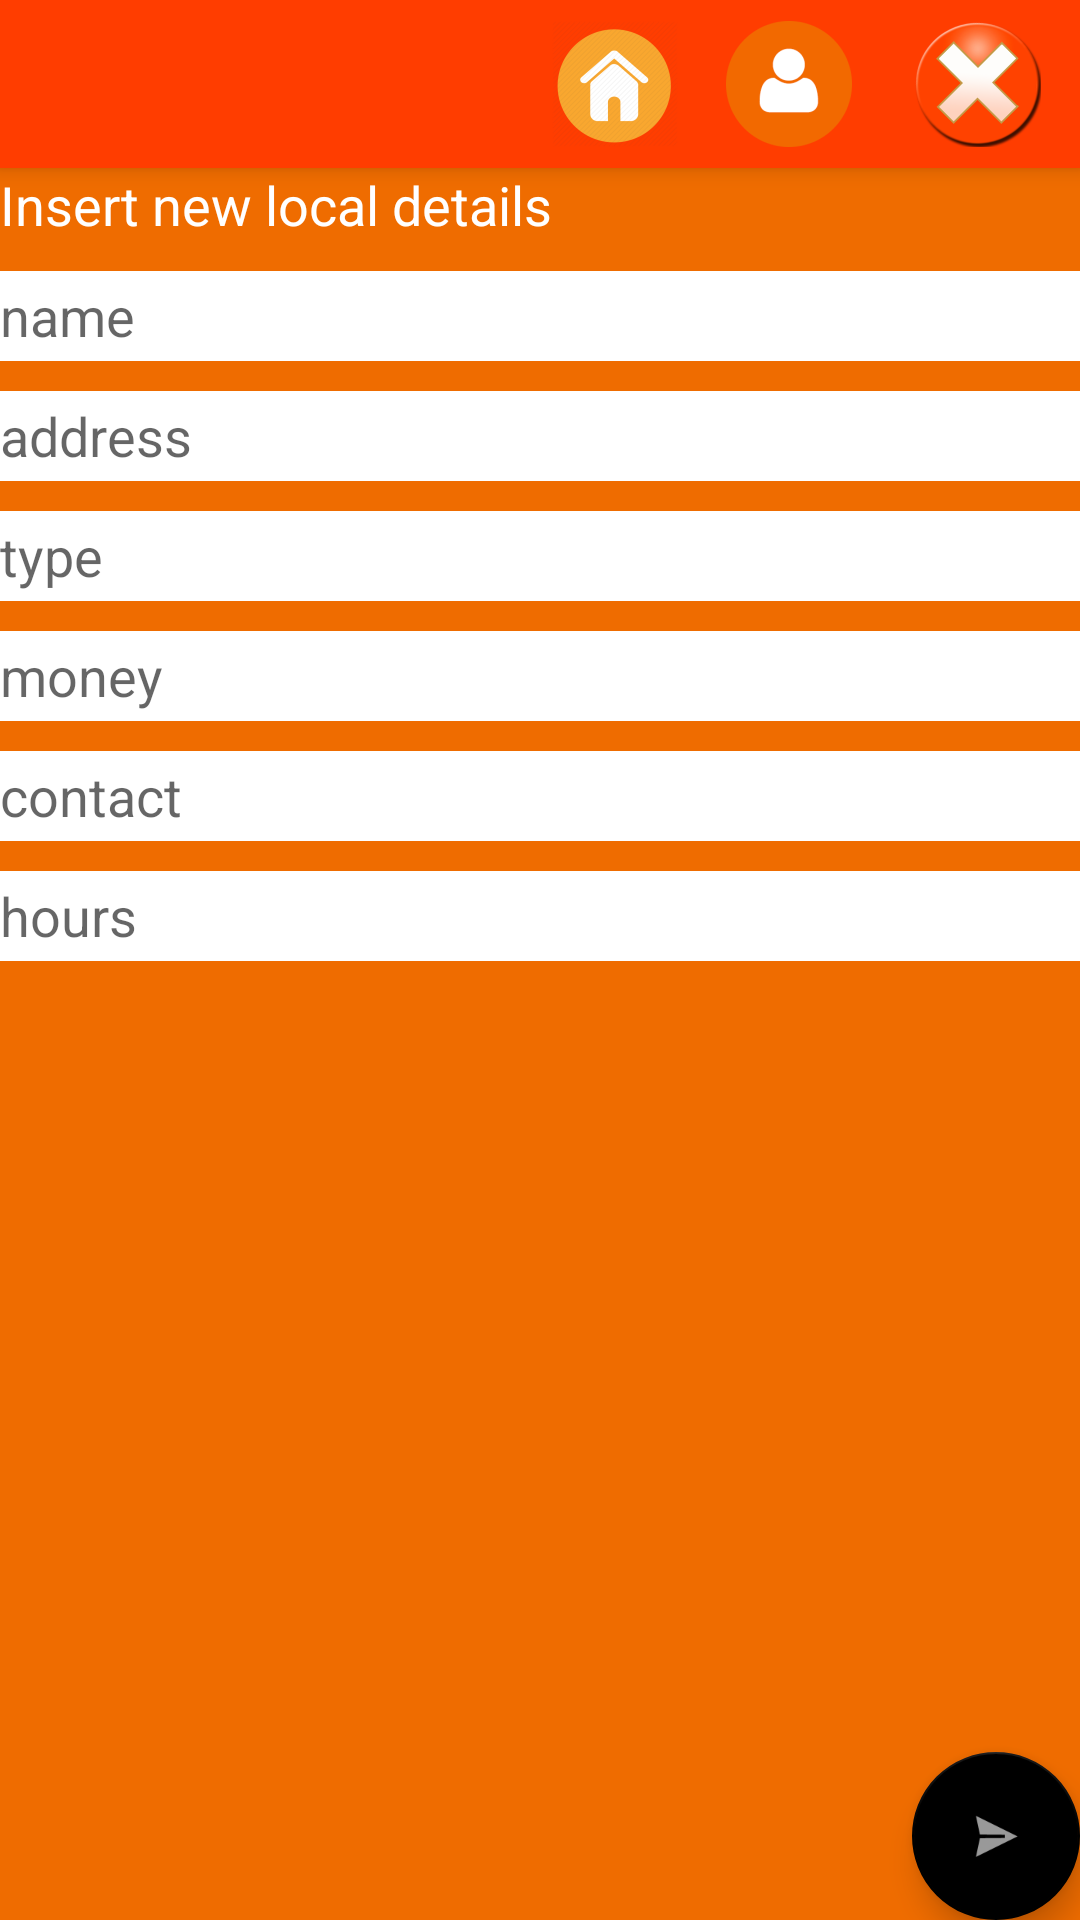

Named icons in this screenshot (1080w x 1920h) and their centers, [x,y]:
home: [614,86]
send: [996,1836]
user: [789,84]
